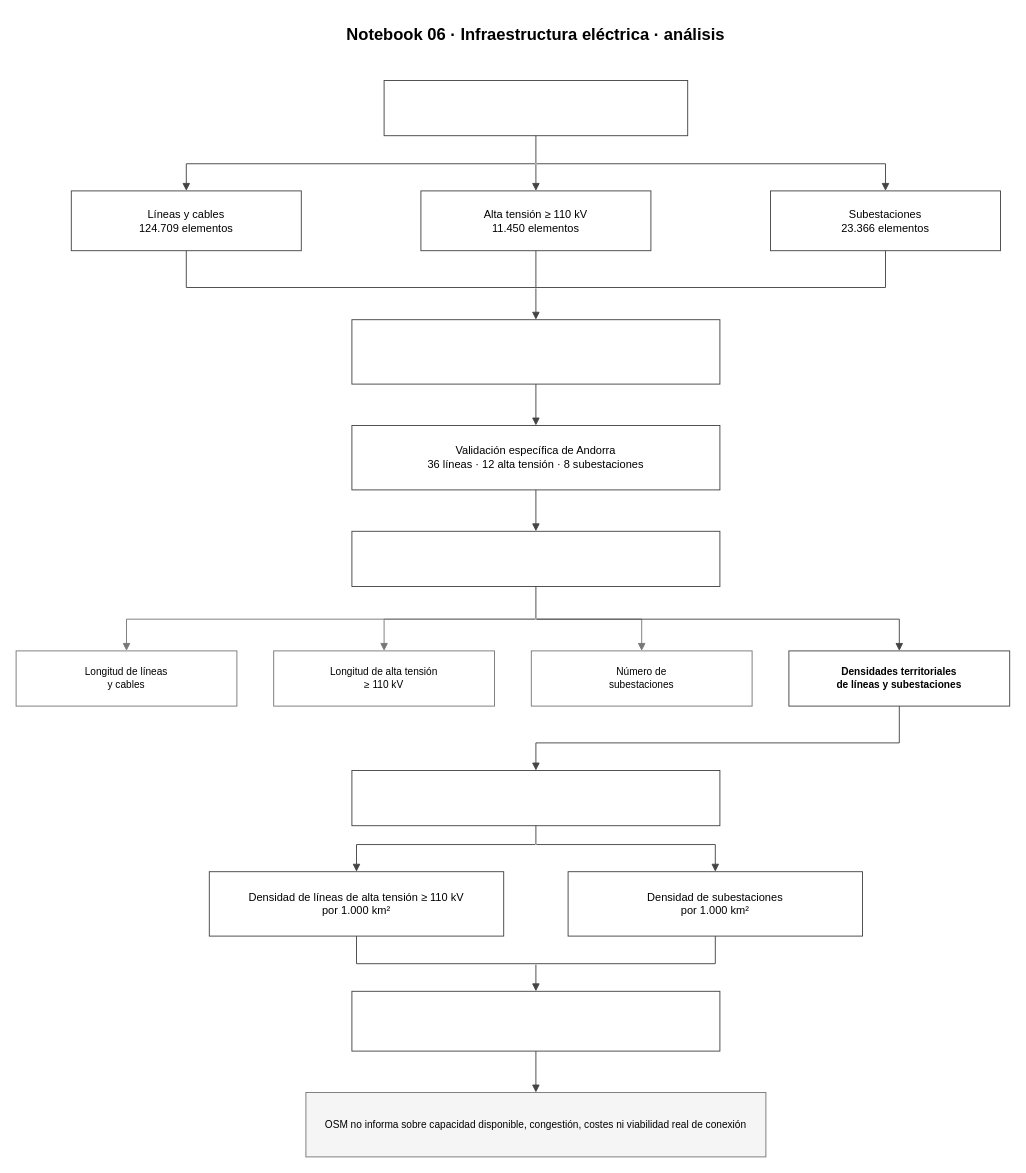
Some shapes in this 1026 by 1173 pixel diagram are drawn without their labels. The shapes that lost their labels are listed below. From the top down, each one's box as (x1, y1, x2, y2) in pixels, then its label:
(383, 80, 688, 136): Capas eléctricas finales validadas
(351, 319, 720, 384): Cobertura territorial España peninsular · Portugal continental · Andorra
(351, 530, 720, 586): Indicadores territoriales calculados en el Notebook 10
(351, 770, 720, 826): Indicadores eléctricos activos en el IIT-CPD
(351, 990, 720, 1051): Interpretación territorial Presencia relativa de infraestructura eléctrica
